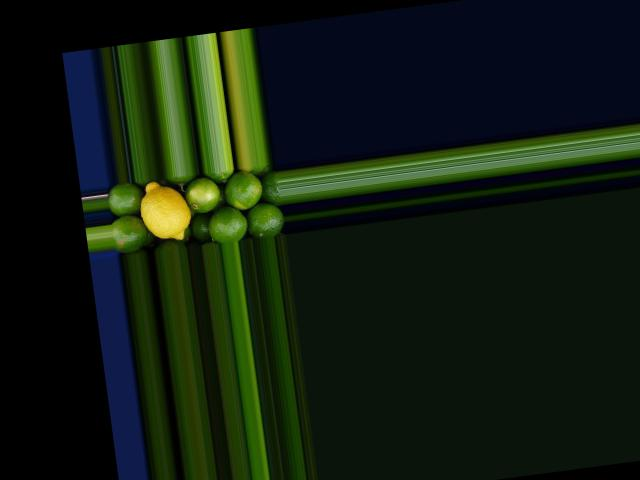lemon: (136, 178, 195, 245)
